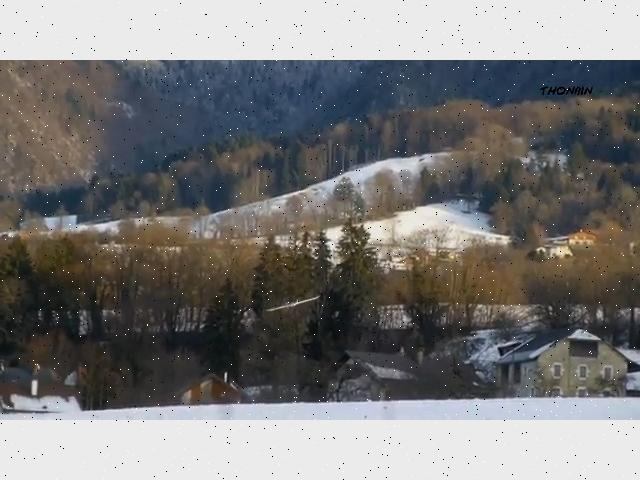Anti-Drone: (268, 296, 318, 312)
